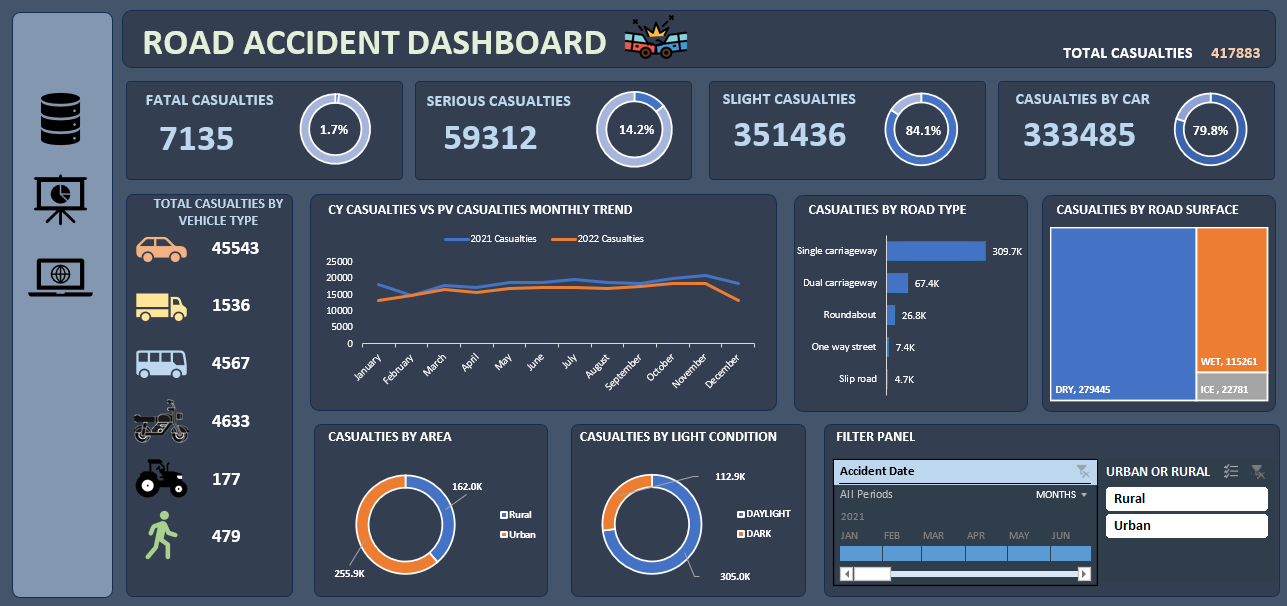

The page's visual inventory and layout, read from the dashboard file:
{"tool":"powerbi","page":{"name":"ROAD ACCIDENT ANALYSIS","canvas":[1280,720],"ordinal":0},"visuals":[{"type":"card","title":"TOTAL CY CASUALTIES","fields":{"Values":["Data.CY Casualities"]},"box":[9.8,95.7,238,87.1],"z":0},{"type":"image","box":[14.7,234.4,87.2,72.6],"z":0,"group":"g1"},{"type":"image","box":[14.7,307,87.1,72.4],"z":1000,"group":"g1"},{"type":"card","title":"YOY GROWTH %","fields":{"Values":["Data.YOY GROWTH"]},"box":[9.8,182.8,238,27],"z":2000},{"type":"image","box":[14.7,388.3,87.1,72.4],"z":2000,"group":"g1"},{"type":"card","title":"CY SERIOUS CASUALTIES","fields":{"Values":["Data.CY Accident Count"]},"box":[770.6,93.3,245.4,87.1],"z":3000},{"type":"image","box":[17.2,470.9,87.1,72.4],"z":3000,"group":"g1"},{"type":"card","title":"TOTAL CY ACCIDENTS","fields":{"Values":["Data.CY Accident Count"]},"box":[262.6,95.7,231.9,87.1],"z":4000},{"type":"image","box":[17.2,542.2,87.1,72.4],"z":4000,"group":"g1"},{"type":"card","title":"YOY GROWTH %","fields":{"Values":["Data.YOY ACCIDENTS"]},"box":[775.5,180.4,231.9,27],"z":5000},{"type":"image","box":[17.2,614.8,87.1,72.4],"z":5000,"group":"g1"},{"type":"card","title":"CY FATAL CASUALTIES","fields":{"Values":["Data.CY Accident Count"]},"box":[515.3,93.3,239.3,87.1],"z":6000},{"type":"card","title":"CY SLIGHT CASUALTIES","fields":{"Values":["Data.CY Accident Count"]},"box":[1024.5,93.3,238,87.1],"z":7000},{"type":"multiRowCard","fields":{"Values":["Data.Vehicle_Type (groups)","Data.CY Casualities"]},"box":[104.3,234.4,142.3,463.8],"z":7000,"group":"g2"},{"type":"card","title":"YOY GROWTH %","fields":{"Values":["Data.YOY ACCIDENTS"]},"box":[262.6,182.8,231.9,27],"z":8000},{"type":"group","id":"g1","title":"Group 3","box":[14.7,234.4,89.6,452.8],"z":8000,"group":"g2"},{"type":"card","title":"YOY GROWTH %","fields":{"Values":["Data.YOY ACCIDENTS"]},"box":[520.2,180.4,231.9,27],"z":9000},{"type":"card","title":"YOY GROWTH %","fields":{"Values":["Data.YOY ACCIDENTS"]},"box":[1030.7,180.4,231.9,27],"z":10000},{"type":"textbox","box":[14.7,14.7,587.7,61.4],"z":11000},{"type":"areaChart","title":"CY Casualties VS PY Casualties","fields":{"Y":["Sum(Data.Number_of_Casualties)"],"Category":["Calendar.Month"],"Series":["Calendar.Year"]},"box":[269.9,223.3,446.8,229.2],"z":12000},{"type":"donutChart","title":"Casualties Urban VS Rural","fields":{"Category":["Data.Urban_or_Rural_Area"],"Y":["Data.CY Casualities"]},"box":[733.7,224.5,238.1,229.2],"z":13000},{"type":"donutChart","title":"CY Casualties by Light Condition","fields":{"Y":["Data.CY Casualities"],"Category":["Data.Light_Conditions (groups)"]},"box":[733.7,469.9,238.1,243.2],"z":14000},{"type":"barChart","title":"Casualties by Road Type","fields":{"Category":["Data.Road_Type"],"Y":["Data.CY Casualities"]},"box":[269.9,471.2,445.5,226.6],"z":15000},{"type":"slicer","fields":{"Values":["Data.Weather_Conditions (groups)"]},"box":[854,14.7,241.7,61.4],"z":16000},{"type":"slicer","fields":{"Values":["Data.Road_Surface_Conditions (groups)"]},"box":[612.3,14.7,241.7,61.4],"z":17000},{"type":"actionButton","box":[1154.6,22.1,108,46.6],"z":18000},{"type":"group","id":"g2","title":"Group 6","box":[14.7,234.4,231.9,463.8],"z":19000},{"type":"barChart","title":"Top 10 Locations By No. of Casualties","fields":{"Y":["Sum(Data.Number_of_Casualties)"],"Category":["Data.Local_Authority_(District)"]},"box":[992.6,224.5,269.9,473.6],"z":20000}]}

Visuals, with their boxes on the page's 1280x720 design canvas (x1, y1, x2, y2). These are canvas units, not pixel positions in the 1287x606 screenshot, which may show the page scaled, cropped or inside an application window:
"TOTAL CY CASUALTIES" card: 10 96 248 183
image: 15 234 102 307
image: 15 307 102 379
"YOY GROWTH %" card: 10 183 248 210
image: 15 388 102 461
"CY SERIOUS CASUALTIES" card: 771 93 1016 180
image: 17 471 104 543
"TOTAL CY ACCIDENTS" card: 263 96 494 183
image: 17 542 104 615
"YOY GROWTH %" card: 776 180 1007 207
image: 17 615 104 687
"CY FATAL CASUALTIES" card: 515 93 755 180
"CY SLIGHT CASUALTIES" card: 1024 93 1262 180
multiRowCard - Data.Vehicle_Type (groups) x Data.CY Casualities: 104 234 247 698
"YOY GROWTH %" card: 263 183 494 210
"Group 3" group: 15 234 104 687
"YOY GROWTH %" card: 520 180 752 207
"YOY GROWTH %" card: 1031 180 1263 207
textbox: 15 15 602 76
"CY Casualties VS PY Casualties" areaChart: 270 223 717 452
"Casualties Urban VS Rural" donutChart: 734 224 972 454
"CY Casualties by Light Condition" donutChart: 734 470 972 713
"Casualties by Road Type" barChart: 270 471 715 698
slicer - Data.Weather_Conditions (groups): 854 15 1096 76
slicer - Data.Road_Surface_Conditions (groups): 612 15 854 76
actionButton: 1155 22 1263 69
"Group 6" group: 15 234 247 698
"Top 10 Locations By No. of Casualties" barChart: 993 224 1262 698
